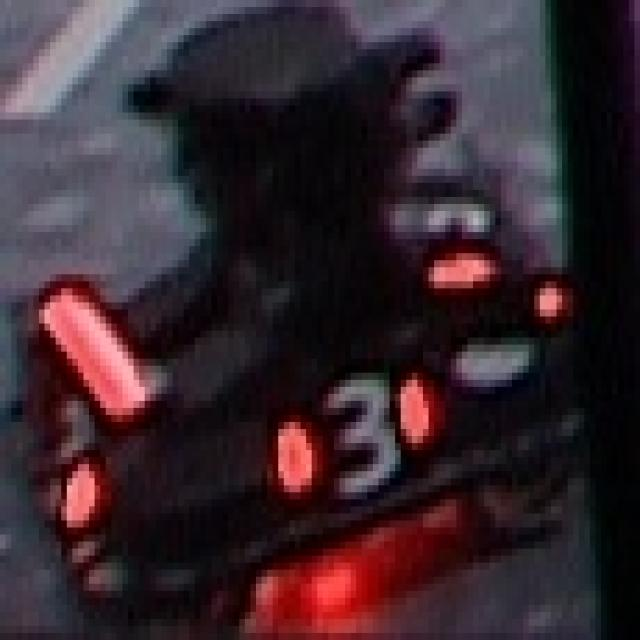R3: (272, 359, 428, 506), (373, 162, 506, 295)
